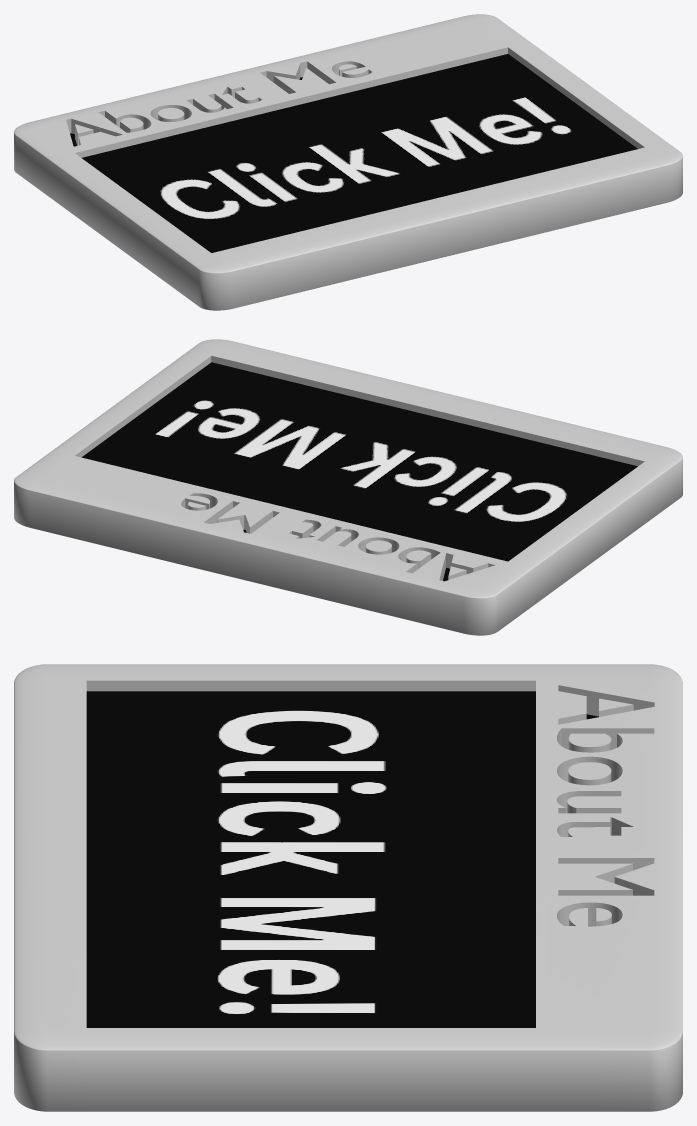
Rendered from AboutMe.glb.
3 renders of one model, top to bottom at view 1: azimuth 30°, elevation 25°; view 2: azimuth 150°, elevation 25°; view 3: azimuth 270°, elevation 25°, orthographic. The views are drawn at different scales.
Visible parts, largest first — view 1: BaseButtonPlate; view 2: BaseButtonPlate; view 3: BaseButtonPlate.
Boxes of the visible parts, x1,y1,x2,y2 form: BaseButtonPlate: [14, 14, 682, 310]; BaseButtonPlate: [14, 339, 682, 635]; BaseButtonPlate: [14, 664, 682, 1111].
Bounding box in the file's own units: 3.95 × 0.3216 × 2.89.
3 materials, 1 textured.
